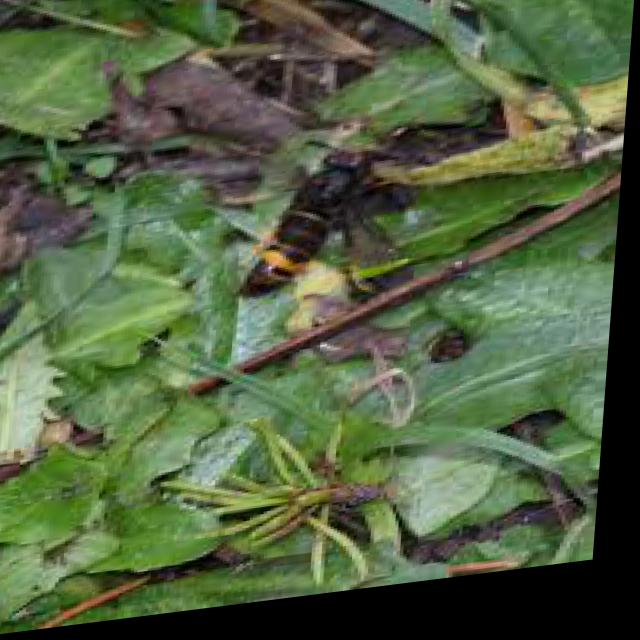Vespa Velutina: (238, 122, 432, 314)
